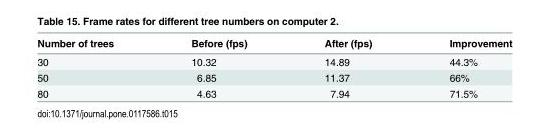table: (36, 36, 511, 98)
table column: (151, 36, 285, 98), (285, 36, 409, 98), (36, 36, 151, 98), (409, 36, 511, 98)
table column header: (36, 36, 511, 52)
table row: (36, 52, 511, 69), (36, 36, 511, 52), (36, 69, 511, 85), (36, 85, 511, 98)
